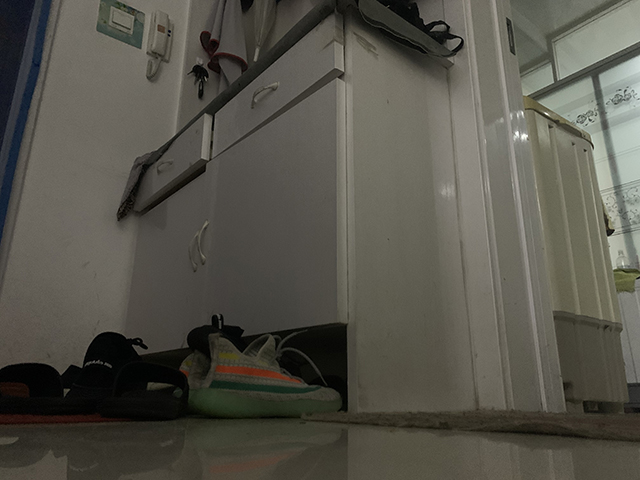cabinet: (115, 1, 480, 411)
carpet: (298, 408, 640, 446), (1, 411, 143, 424)
